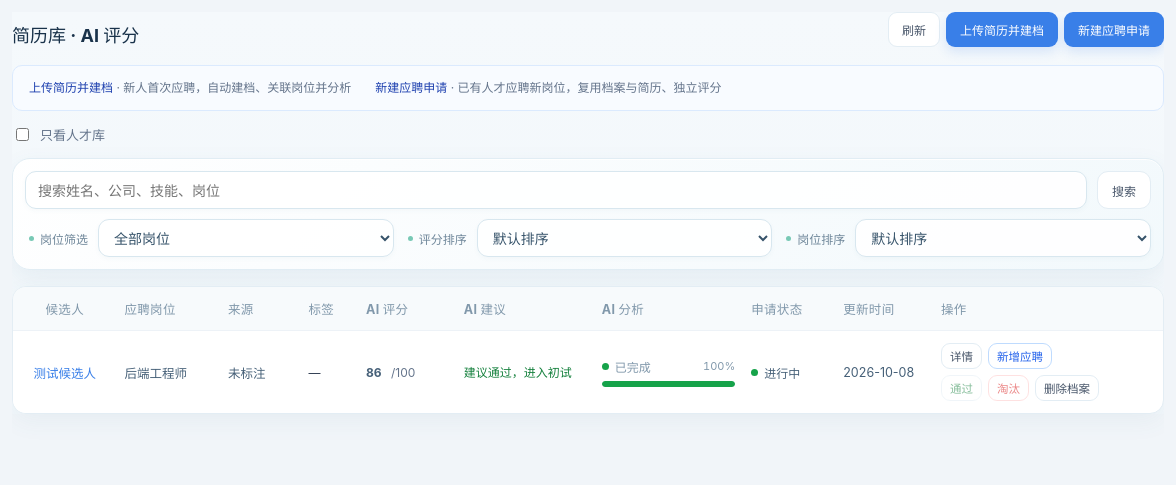
it: CandidateListPage deletion › uses the entity ID, disables duplicate submissions and refreshes after deletion
Click the button with class "delete-button" at (1067, 388), box x1=1035 y1=375 x2=1099 y2=401
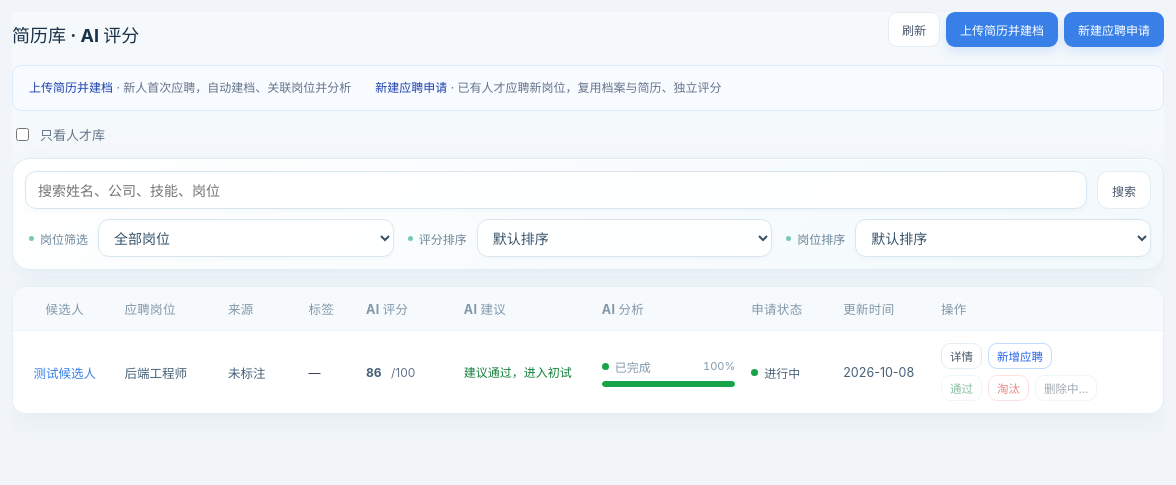
Expected: the button with class "delete-button" is disabled
Expected: the button with class "delete-button" reads "删除中…"
Click the button with class "delete-button" at (1066, 388), box x1=1035 y1=375 x2=1098 y2=401
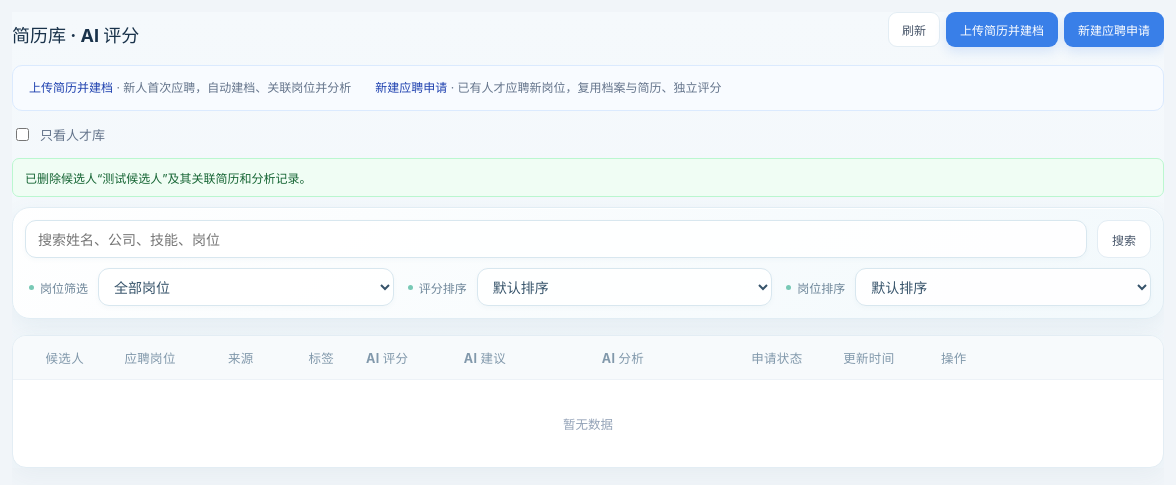
Expected: the button with class "name-link" is gone
Expected: the text with class "success-note" shows "已删除候选人", x1=25 y1=171 x2=312 y2=186
